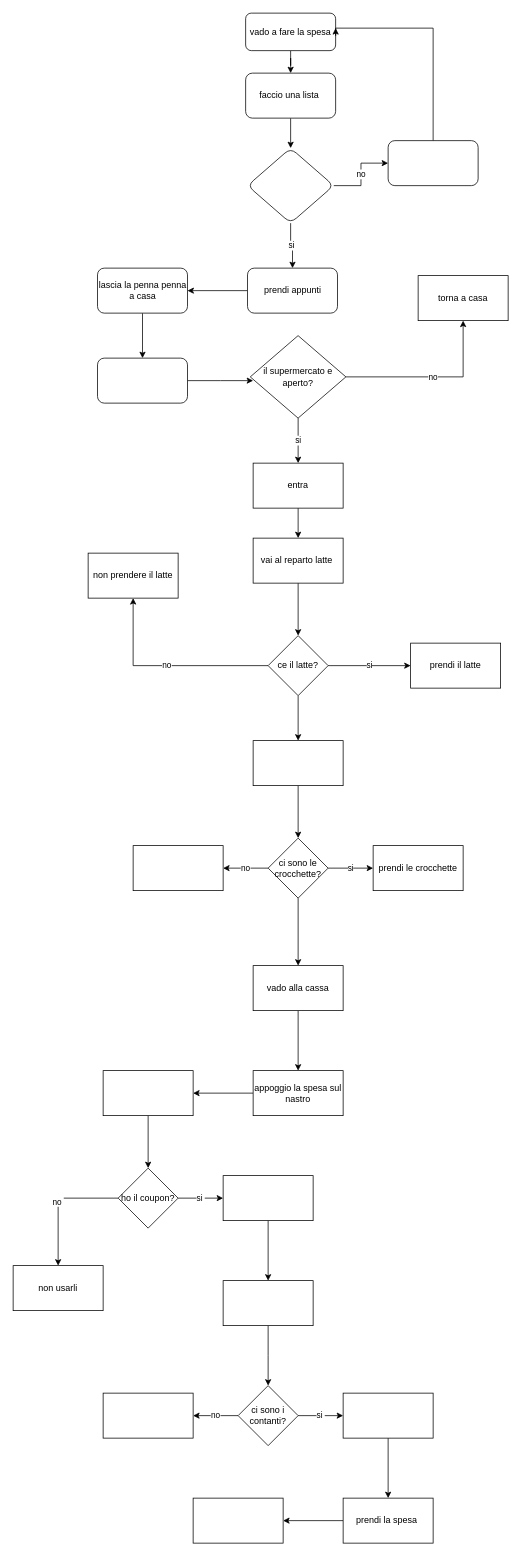
This 521x1556 diagram has some shape labels left out. Each missing label, with the box of its shape:
allora non scrivi nulla: (387, 140, 478, 186)
ce la penna e la carta?: (247, 147, 334, 223)
devo pagare: (102, 1070, 193, 1116)
non pagare: (102, 1392, 193, 1438)
non prendere le crocchette: (132, 845, 223, 891)
paga: (342, 1392, 433, 1438)
prendi il portafoglio: (222, 1280, 313, 1326)
usali: (222, 1175, 313, 1221)
vai al reparto crochette: (252, 740, 343, 786)
vai al supermercato: (97, 357, 188, 403)
